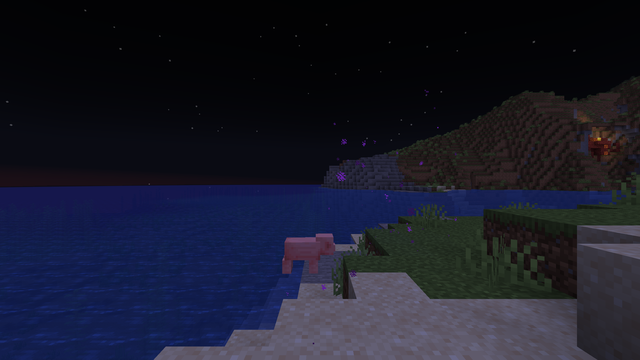cochons: (285, 235, 318, 274)
